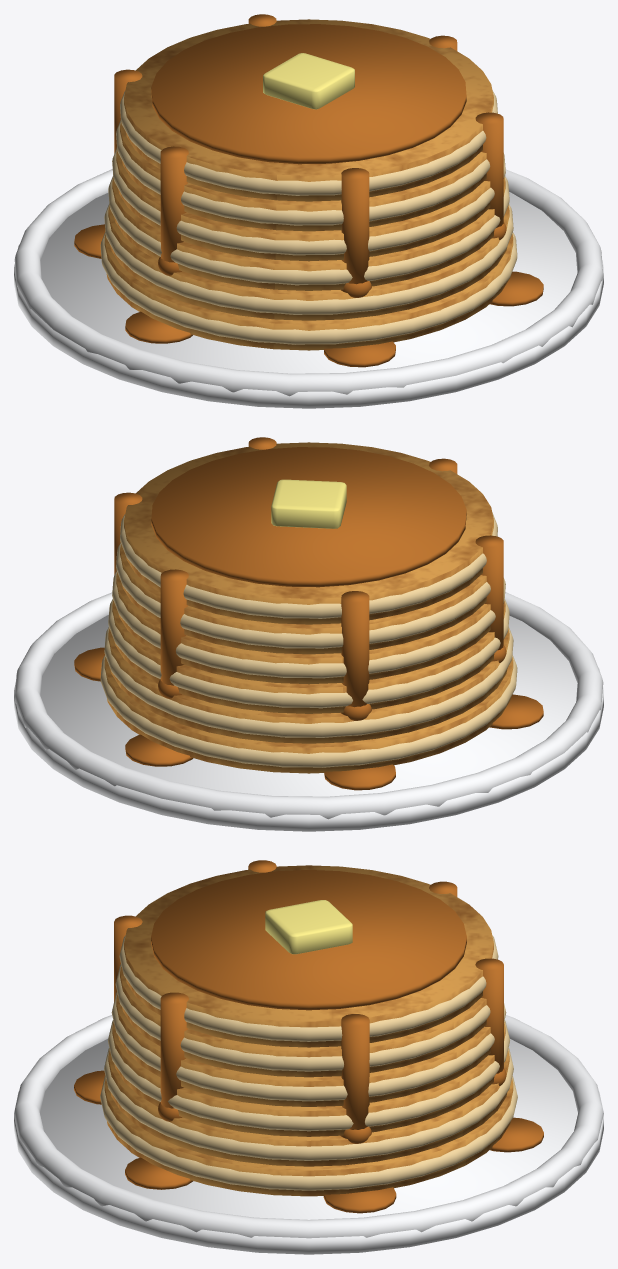
Rendered from pancake_stack.glb.
3 renders of one model, top to bottom at view 1: azimuth 30°, elevation 25°; view 2: azimuth 150°, elevation 25°; view 3: azimuth 270°, elevation 25°, orthographic.
Visible parts, largest first — view 1: JoinedAsset; view 2: JoinedAsset; view 3: JoinedAsset.
Part boxes in pixels (left/top/right/bottom): JoinedAsset: left=14, top=14, right=603, bottom=408; JoinedAsset: left=14, top=437, right=603, bottom=831; JoinedAsset: left=14, top=860, right=603, bottom=1254.
Bounding box in the file's own units: 4.56 × 1.82 × 4.56.
5 materials, 1 textured.
